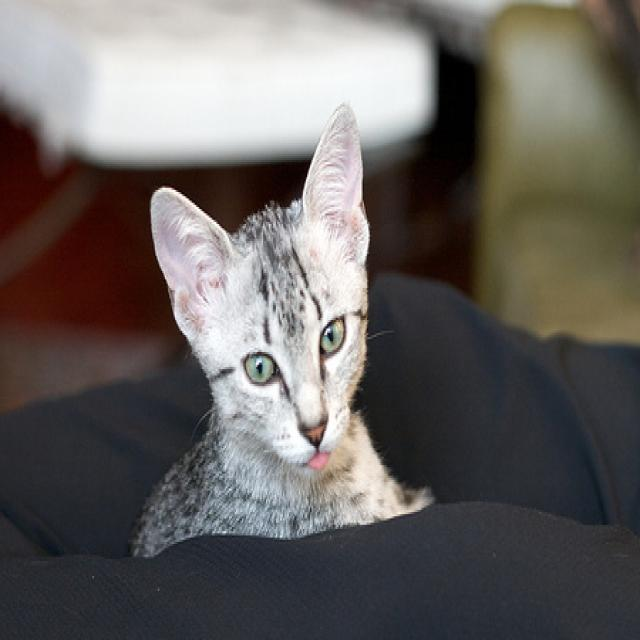Egyptian Mau: (128, 94, 438, 575)
